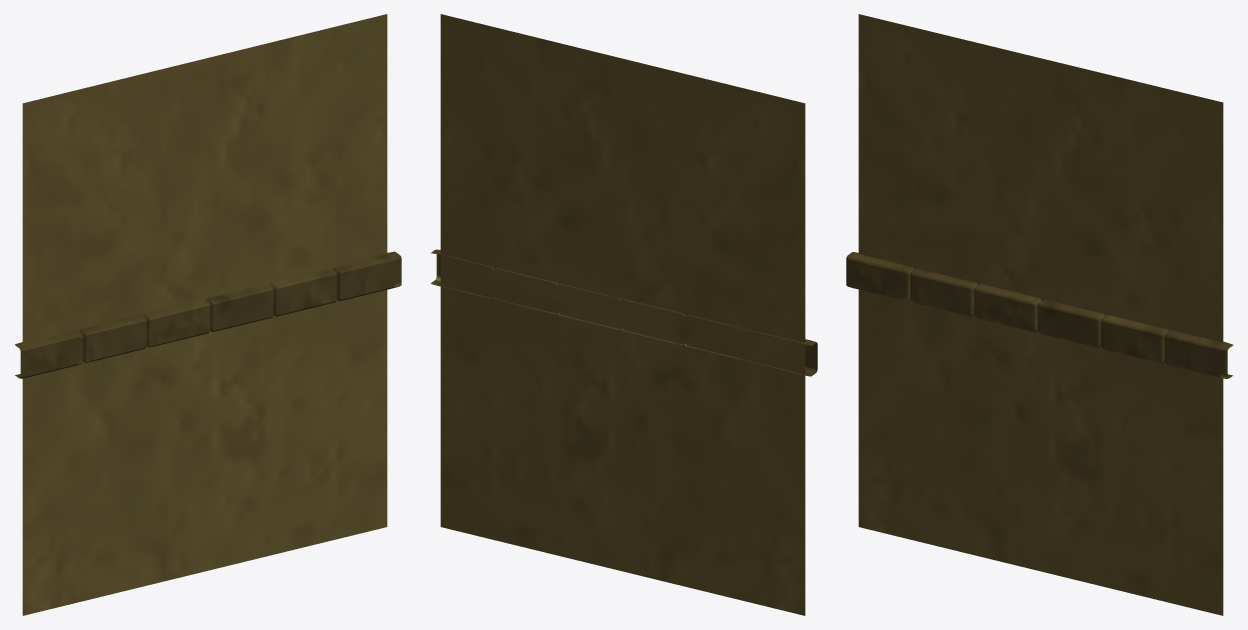
File: Wall_Out1.fbx
3 views of the same model, side by side, from view 1: azimuth 30°, elevation 25°; view 2: azimuth 150°, elevation 25°; view 3: azimuth 330°, elevation 25° (orthographic).
Visible parts, largest first — view 1: Wall_Out_1; view 2: Wall_Out_1; view 3: Wall_Out_1.
Part boxes in pixels (bbox=[...]): Wall_Out_1: bbox=[15, 14, 401, 615]; Wall_Out_1: bbox=[431, 14, 817, 615]; Wall_Out_1: bbox=[846, 14, 1233, 615].
Bounding box in the file's own units: 643 × 828 × 19.46.
1 material, 1 textured.
